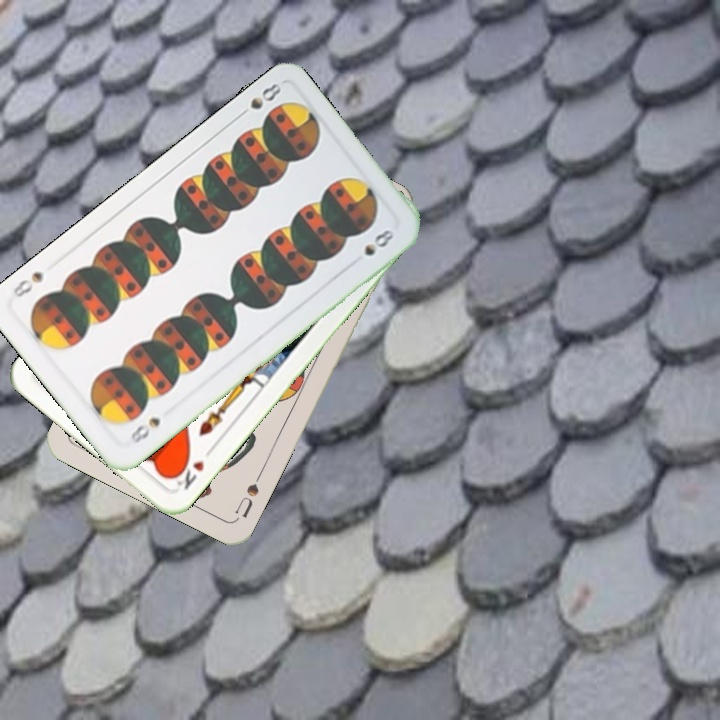HK: (168, 443, 217, 493)
S8: (233, 79, 284, 121), (126, 413, 163, 447)
SU: (230, 466, 266, 522)
